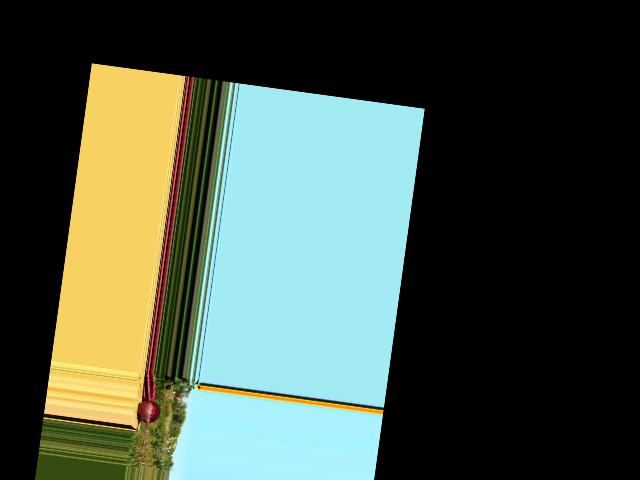beet: (130, 371, 164, 466)
